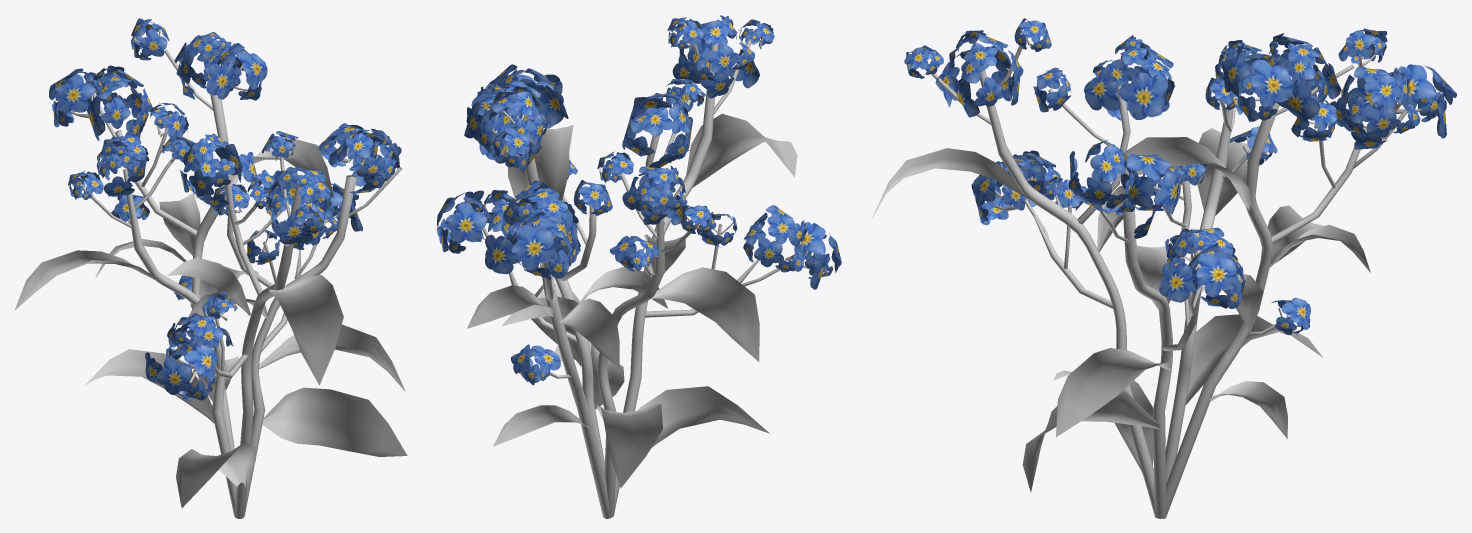
The model's file is Forget_me_nots_geo.fbx.
3 views of the same model, side by side, from view 1: azimuth 30°, elevation 25°; view 2: azimuth 150°, elevation 25°; view 3: azimuth 270°, elevation 25° (orthographic). The views are drawn at different scales.
Visible parts, largest first — view 1: Forget_me_nots; view 2: Forget_me_nots; view 3: Forget_me_nots.
Part boxes in pixels (x1=…): Forget_me_nots: x1=14, y1=18, x2=407, y2=518; Forget_me_nots: x1=436, y1=15, x2=841, y2=518; Forget_me_nots: x1=871, y1=18, x2=1456, y2=518.
Bounding box in the file's own units: 35.05 × 44.86 × 47.82.
